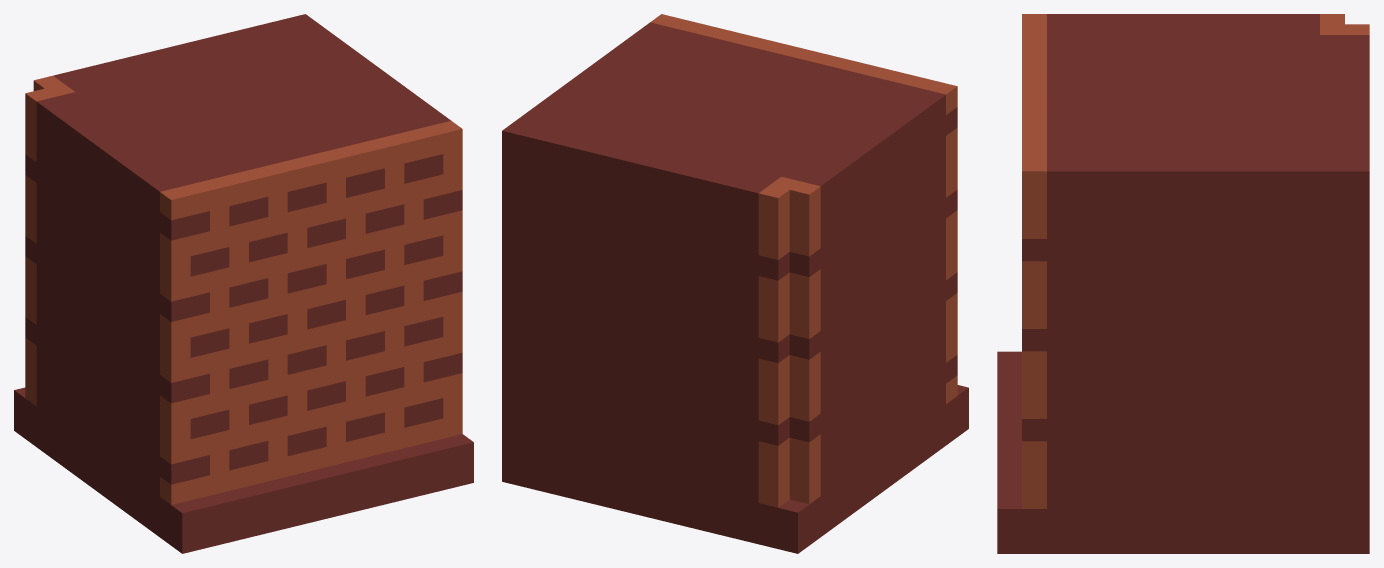
The model's file is dungeon_b_b_outer_wall_segment_d.obj.
3 renders of one model, left to right at view 1: azimuth 30°, elevation 25°; view 2: azimuth 150°, elevation 25°; view 3: azimuth 270°, elevation 25°, orthographic. The views are drawn at different scales.
Bounding box in the file's own units: 1.5 × 1.7 × 1.5.
Materials: 1 (1 with a texture image).
